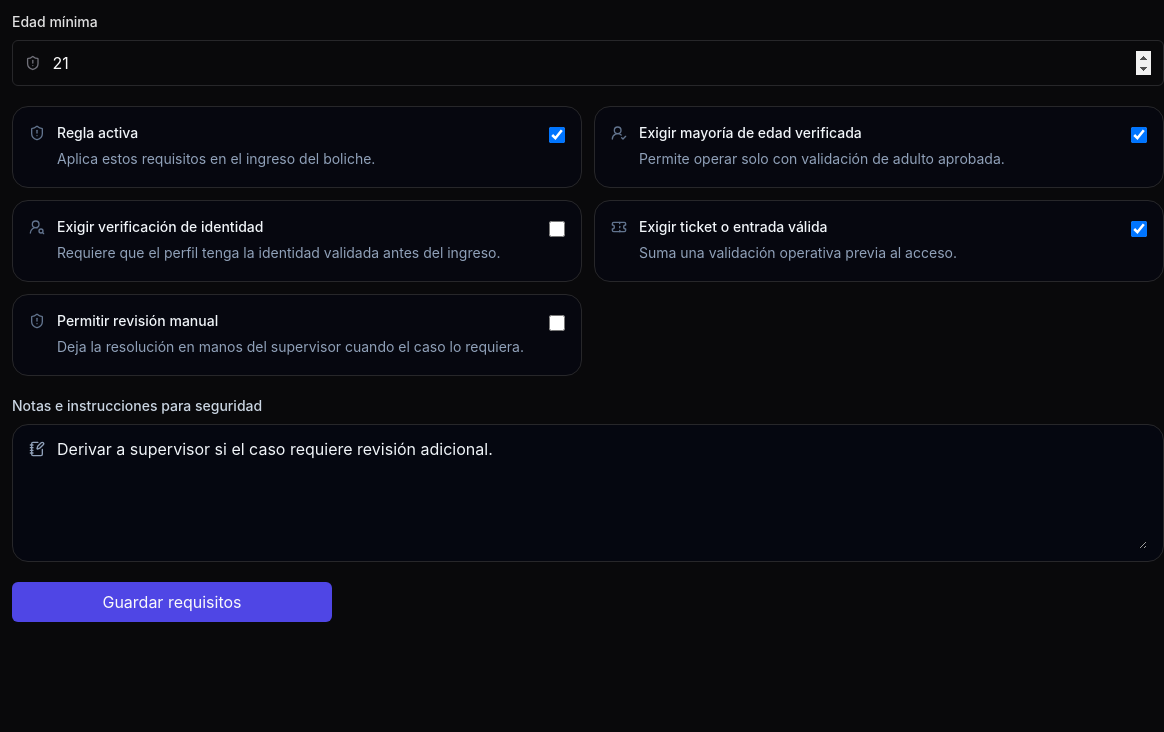
Scenario: VenueEntryRulesForm › submits a valid full payload to the venue entry-rules API
Replace the text in the number field with placeholder "18" with "25": (602, 63) [53,51,1151,75]
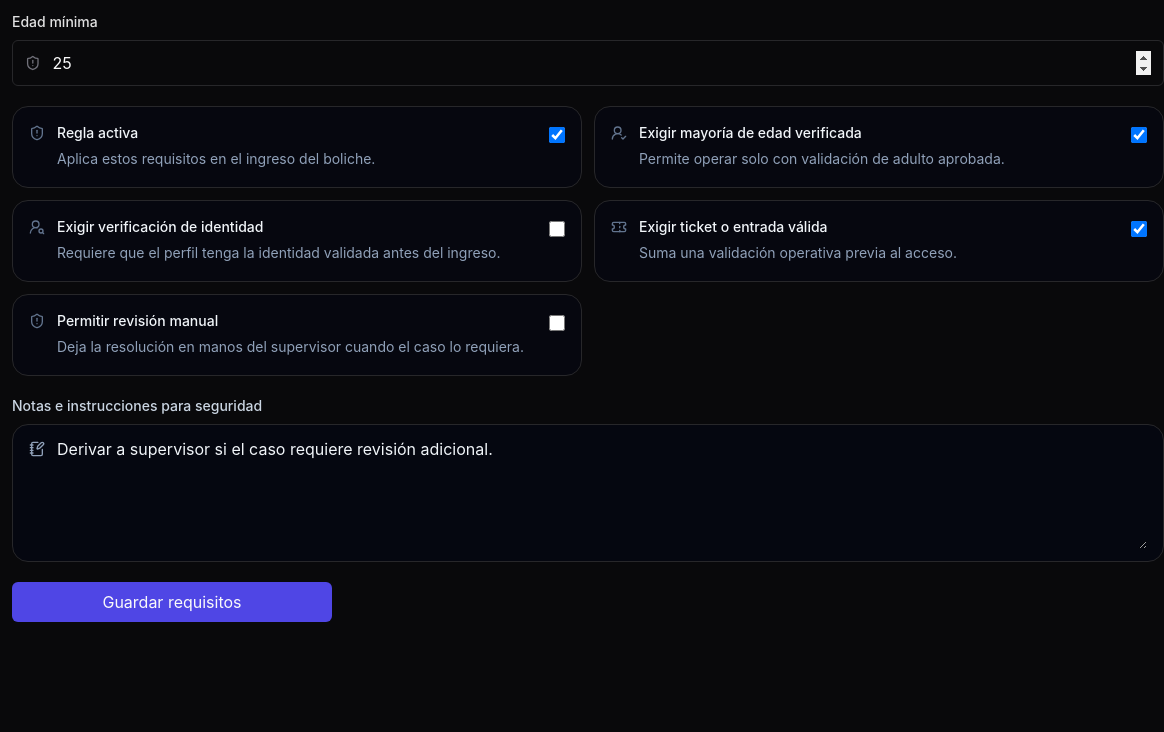
Replace the text in the text box with placeholder "Ej.: derivar a supervisor si la verificación facial requiere revisión manual." with "Pedir revisión manual si hay inconsistencias en la verificación.": (602, 493) [57,437,1147,549]
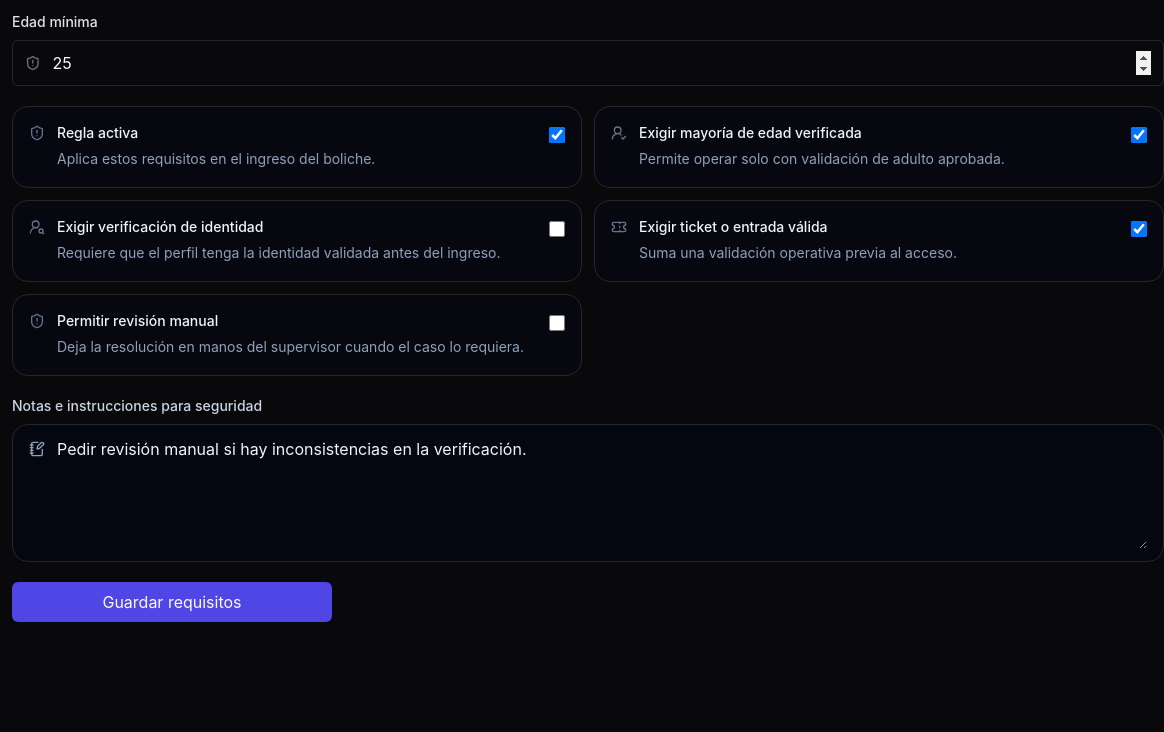
Click the checkbox labelled "Exigir verificación de identidad": (557, 229) [549,221,565,237]
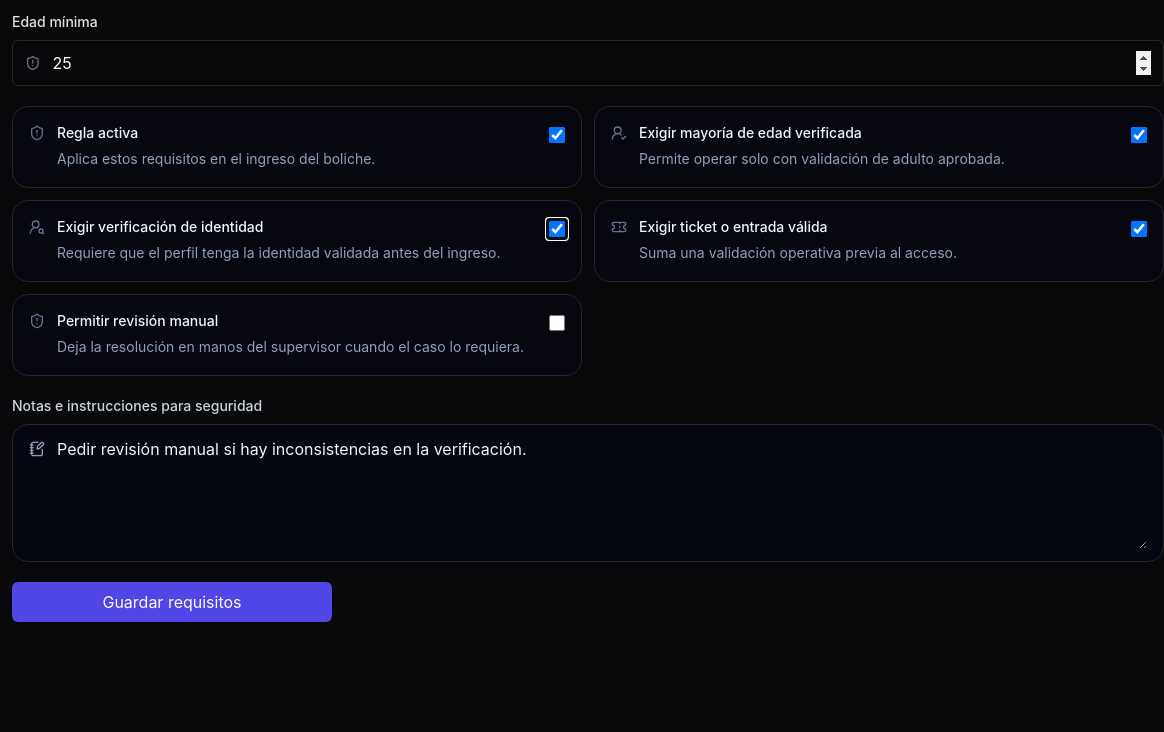
Click the checkbox labelled "Permitir revisión manual": (557, 323) [549,315,565,331]
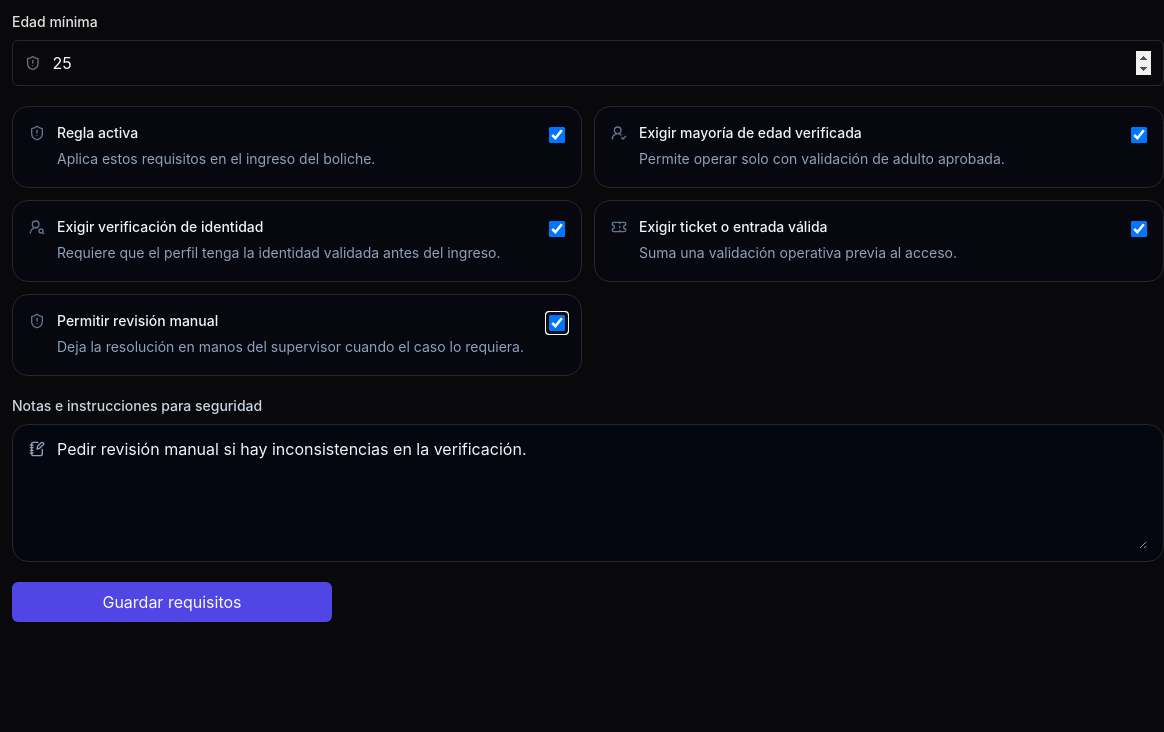
Click the button "Guardar requisitos": (172, 602) [12,582,332,622]
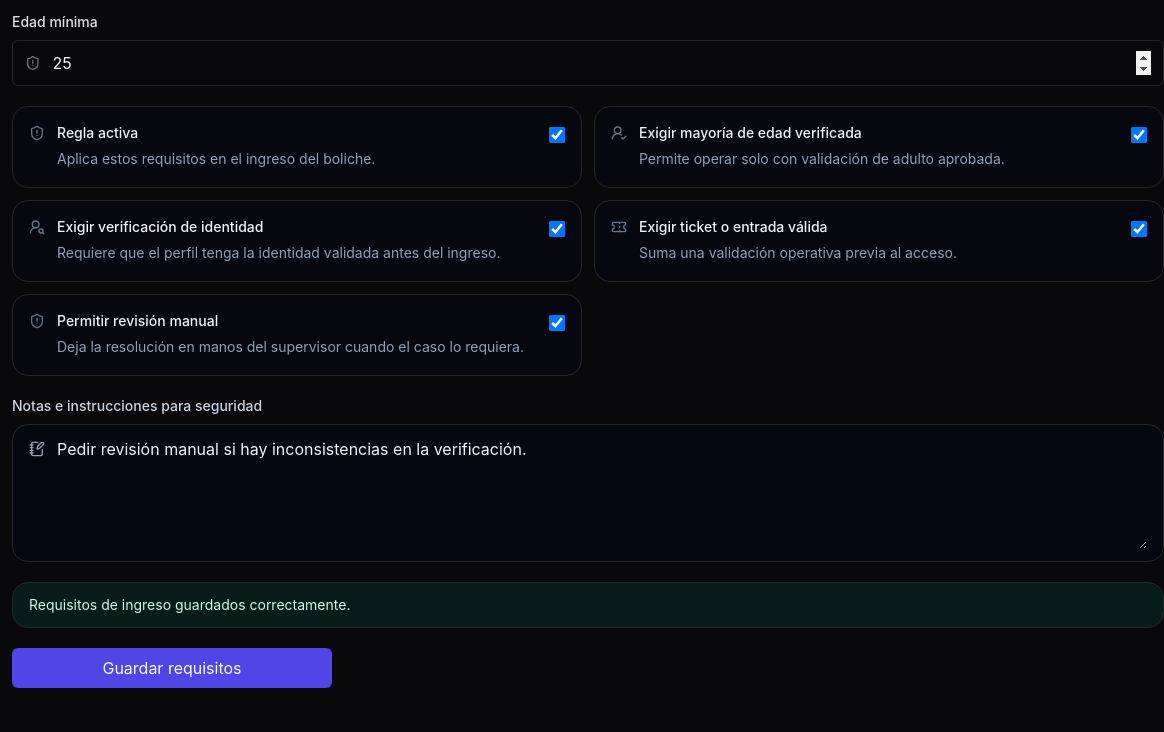
Check: the text "Requisitos de ingreso guardados correctamente." is shown, box [12,582,1163,628]
